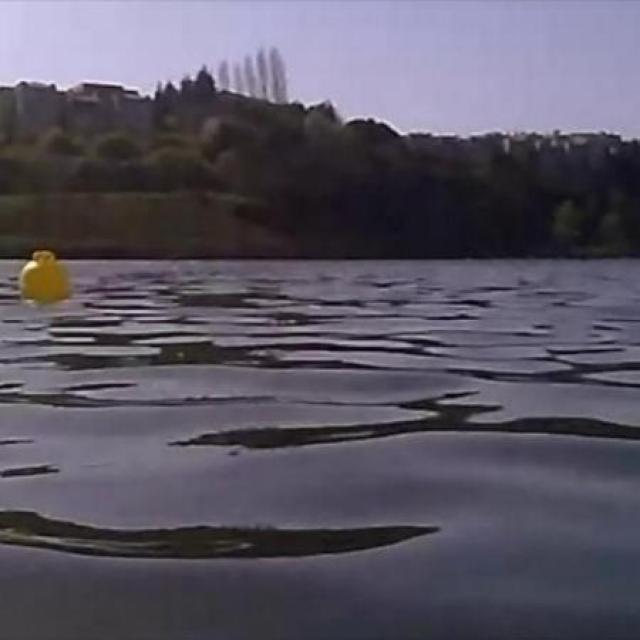buoy: (20, 245, 70, 297)
